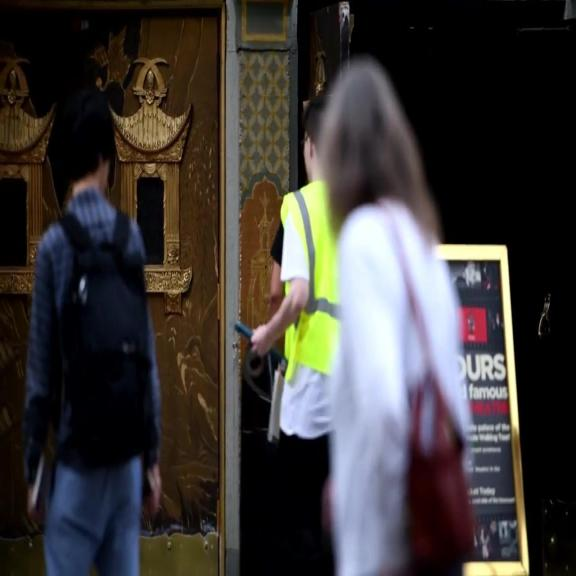safety_vest: (279, 178, 341, 378)
